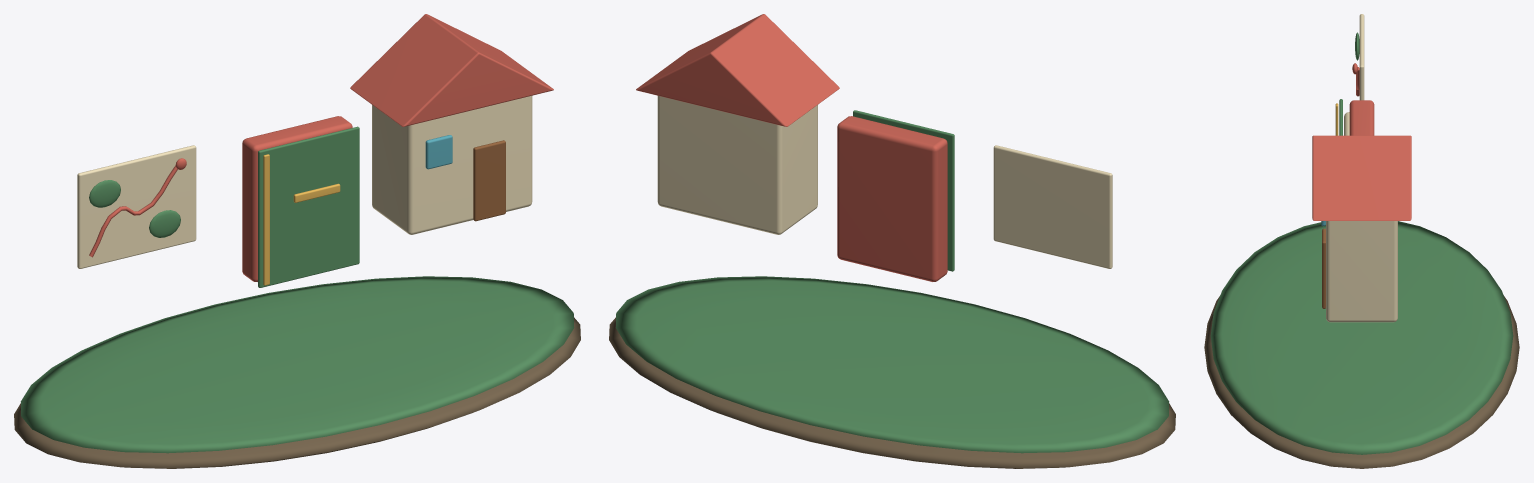
File: map-book-library.glb
The picture shows the model from 3 angles, left to right: view 1: azimuth 30°, elevation 25°; view 2: azimuth 150°, elevation 25°; view 3: azimuth 270°, elevation 25°; orthographic projection. The views are drawn at different scales.
Visible parts, largest first — view 1: map-book-library_surface_01, map-book-library_surface_02, map-book-library_surface_03, map-book-library_surface_00, map-book-library_surface_05, map-book-library_surface_04, map-book-library_surface_06; view 2: map-book-library_surface_01, map-book-library_surface_02, map-book-library_surface_03, map-book-library_surface_00; view 3: map-book-library_surface_01, map-book-library_surface_03, map-book-library_surface_02, map-book-library_surface_00.
Boxes of the visible parts, <box> form: map-book-library_surface_01: <box>20,126,574,453</box>; map-book-library_surface_02: <box>77,95,532,268</box>; map-book-library_surface_03: <box>89,14,553,281</box>; map-book-library_surface_00: <box>14,317,580,468</box>; map-book-library_surface_05: <box>473,140,505,221</box>; map-book-library_surface_04: <box>263,154,340,285</box>; map-book-library_surface_06: <box>425,135,452,169</box>; map-book-library_surface_01: <box>615,110,1169,453</box>; map-book-library_surface_02: <box>657,95,1112,268</box>; map-book-library_surface_03: <box>636,14,947,281</box>; map-book-library_surface_00: <box>609,317,1175,468</box>; map-book-library_surface_01: <box>1210,32,1513,454</box>; map-book-library_surface_03: <box>1312,63,1411,220</box>; map-book-library_surface_02: <box>1326,14,1397,322</box>; map-book-library_surface_00: <box>1204,296,1519,468</box>.
Size of the model in its own units: 4.56 by 2.59 by 2.5.
